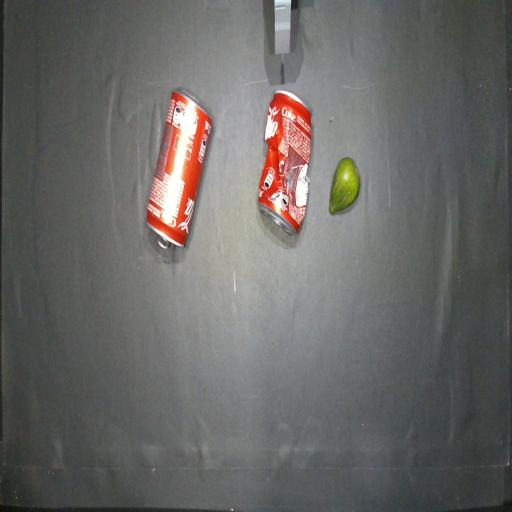higo: (329, 157, 360, 214)
lata: (147, 91, 212, 248)
lata_defectuoso: (258, 90, 312, 234)
